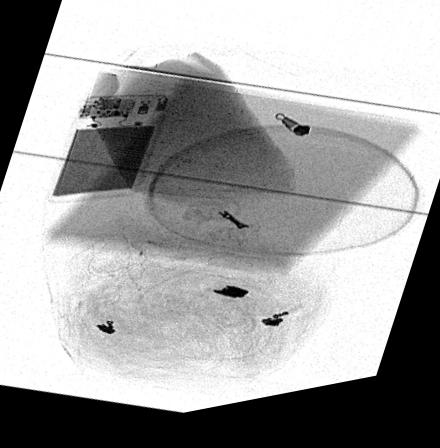Powerbank: (43, 97, 169, 204)
